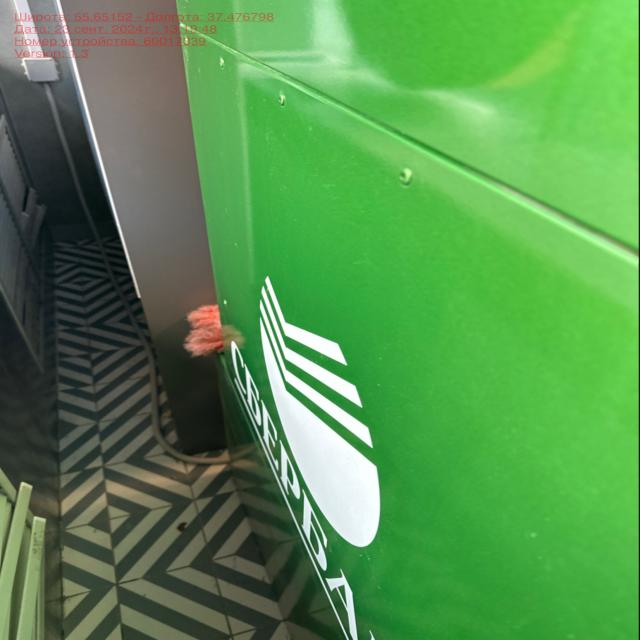bank: (177, 2, 640, 640)
